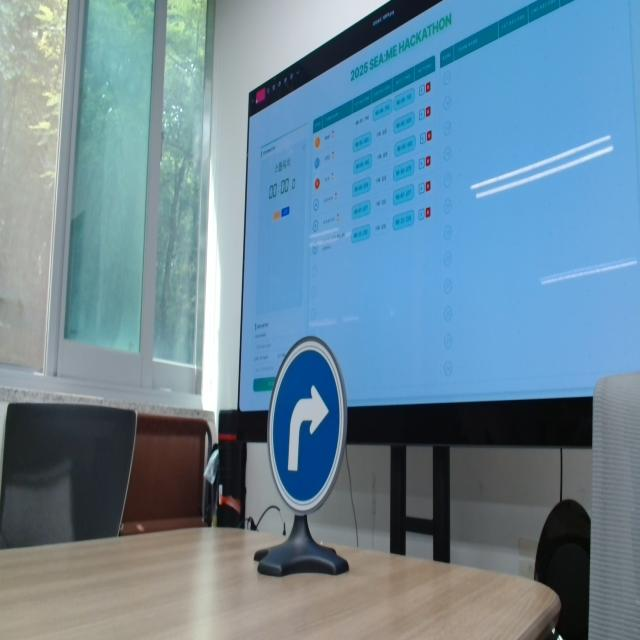right_dierection: (266, 334, 347, 517)
